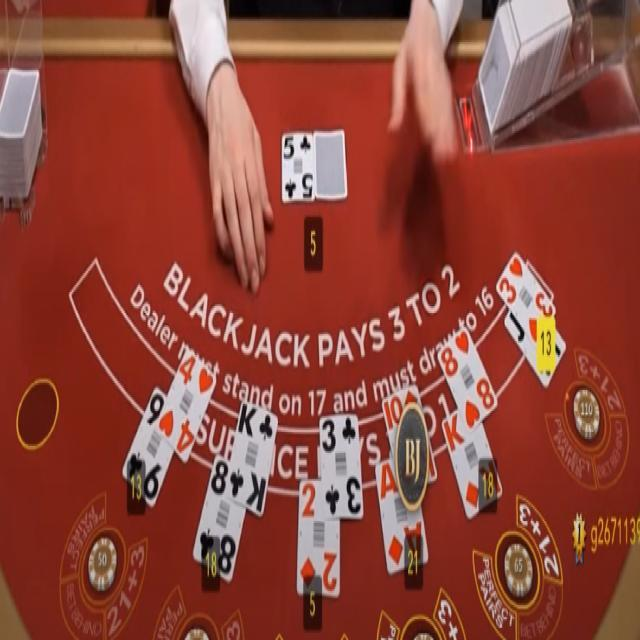Card-10: (381, 381, 437, 492)
Card-2: (297, 481, 340, 597)
Card-3: (496, 248, 556, 349), (319, 414, 363, 516)
Card-4: (159, 345, 217, 465)
Card-5: (282, 133, 315, 204)
Card-8: (193, 452, 245, 585), (437, 323, 498, 436)
Card-9: (122, 382, 174, 508)
Card-A: (375, 456, 429, 575)
Card-J: (504, 309, 566, 389)
Card-K: (441, 409, 502, 520), (225, 396, 278, 519)
